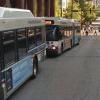Bus: (4, 3, 82, 89)
